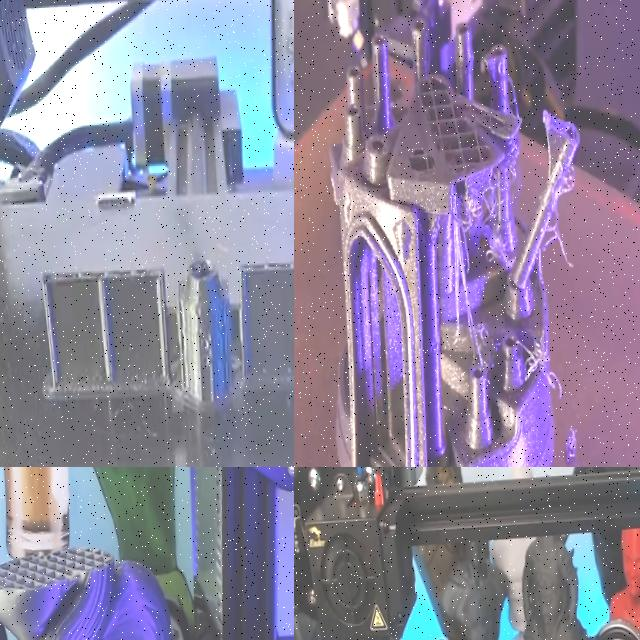spaghetti: (446, 158, 522, 275), (537, 160, 586, 274), (524, 332, 566, 399), (560, 425, 586, 467)
